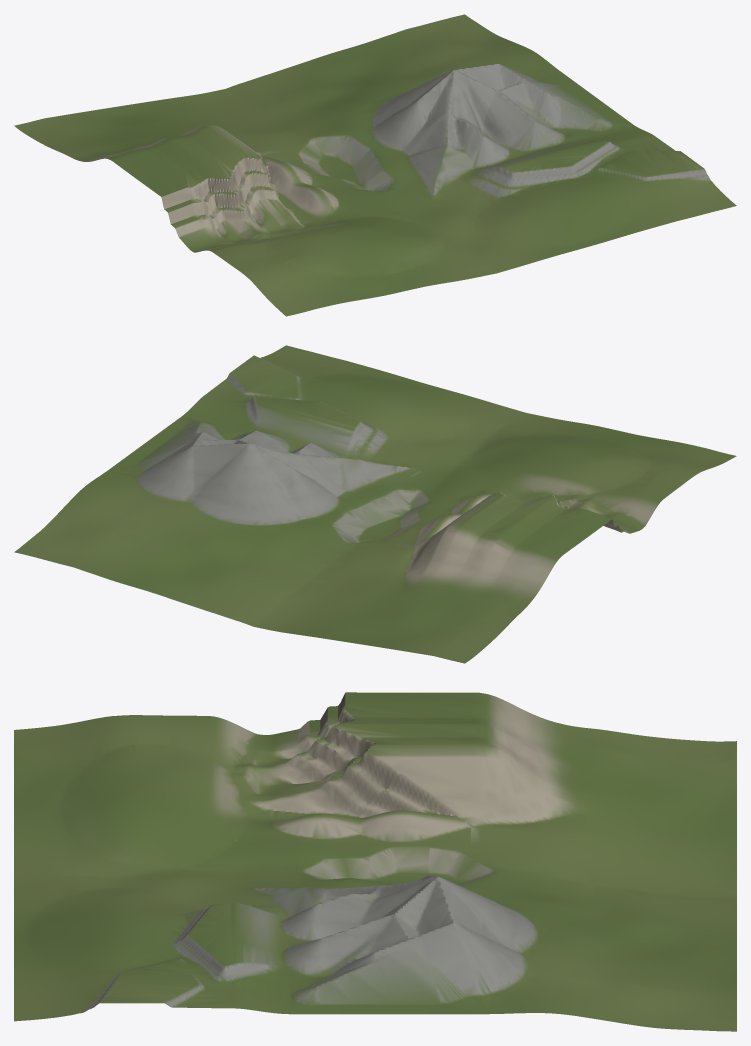
File: utah-mountains.glb
3 views of the same model, one above another, from view 1: azimuth 30°, elevation 25°; view 2: azimuth 150°, elevation 25°; view 3: azimuth 270°, elevation 25° (orthographic). The views are drawn at different scales.
Visible parts, largest first — view 1: Utah_Mountains; view 2: Utah_Mountains; view 3: Utah_Mountains.
Part boxes in pixels (x1=…): Utah_Mountains: x1=14, y1=14, x2=736, y2=316; Utah_Mountains: x1=14, y1=345, x2=736, y2=663; Utah_Mountains: x1=14, y1=692, x2=736, y2=1031.
Size of the model in its own units: 22 by 3.39 by 23.
